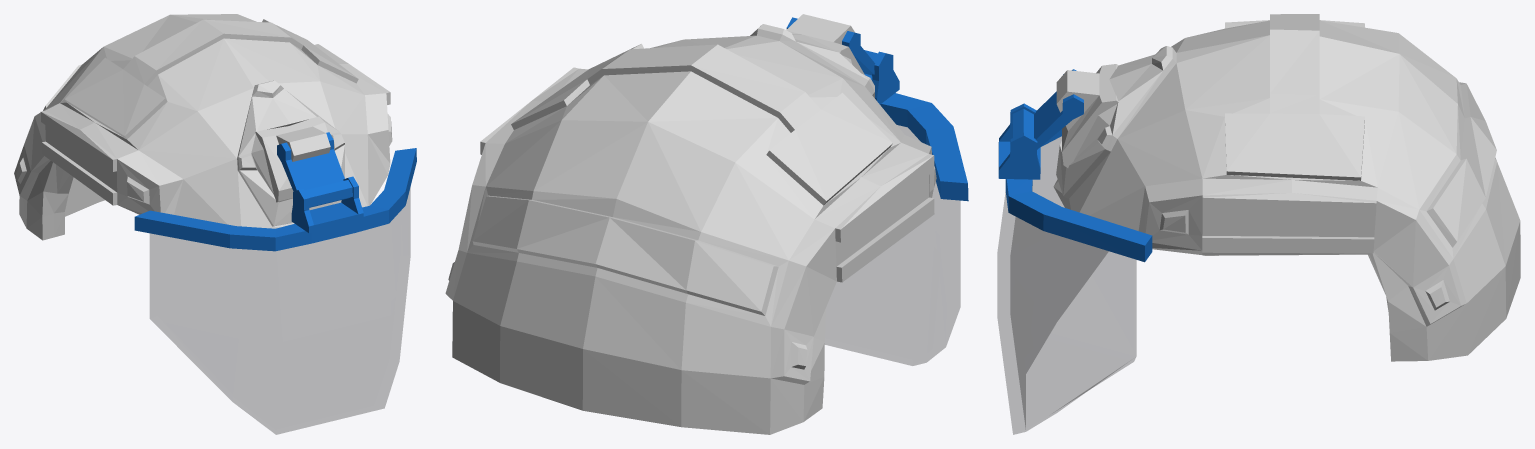
Rendered from SM_helmet.fbx.
3 renders of one model, left to right at view 1: azimuth 30°, elevation 25°; view 2: azimuth 150°, elevation 25°; view 3: azimuth 270°, elevation 25°, orthographic. The views are drawn at different scales.
Visible parts, largest first — view 1: helmet, Cube_3, thermal_imager; view 2: helmet, Cube_3, thermal_imager; view 3: helmet, Cube_3, thermal_imager.
Part boxes in pixels (left/top/right/bottom): helmet: left=14, top=14, right=392, bottom=240; Cube_3: left=134, top=132, right=416, bottom=434; thermal_imager: left=255, top=116, right=330, bottom=202; helmet: left=445, top=24, right=936, bottom=434; Cube_3: left=786, top=17, right=968, bottom=365; thermal_imager: left=786, top=14, right=864, bottom=74; helmet: left=1053, top=14, right=1520, bottom=361; Cube_3: left=997, top=69, right=1152, bottom=434; thermal_imager: left=1056, top=64, right=1118, bottom=167.
Bounding box in the file's own units: 24.94 × 26.15 × 33.21.
